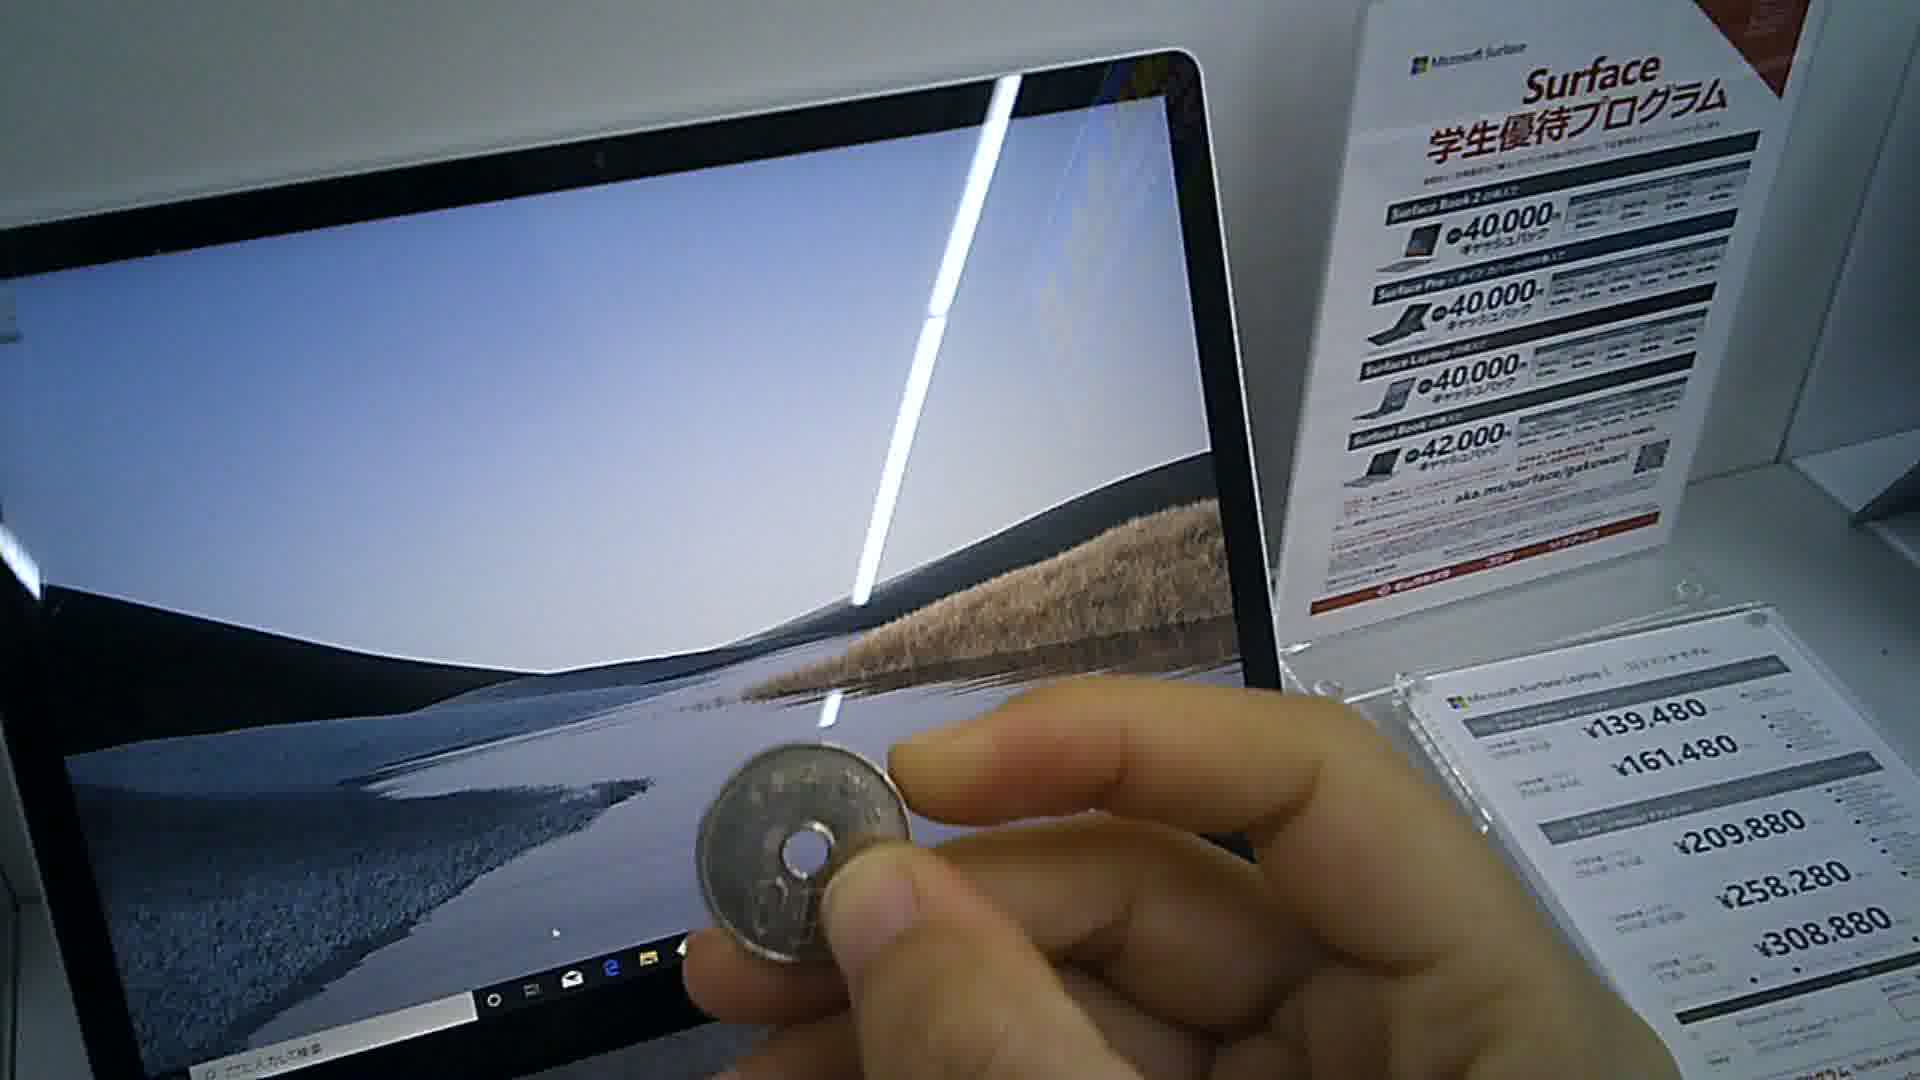50 Yen: (694, 742, 913, 971)
